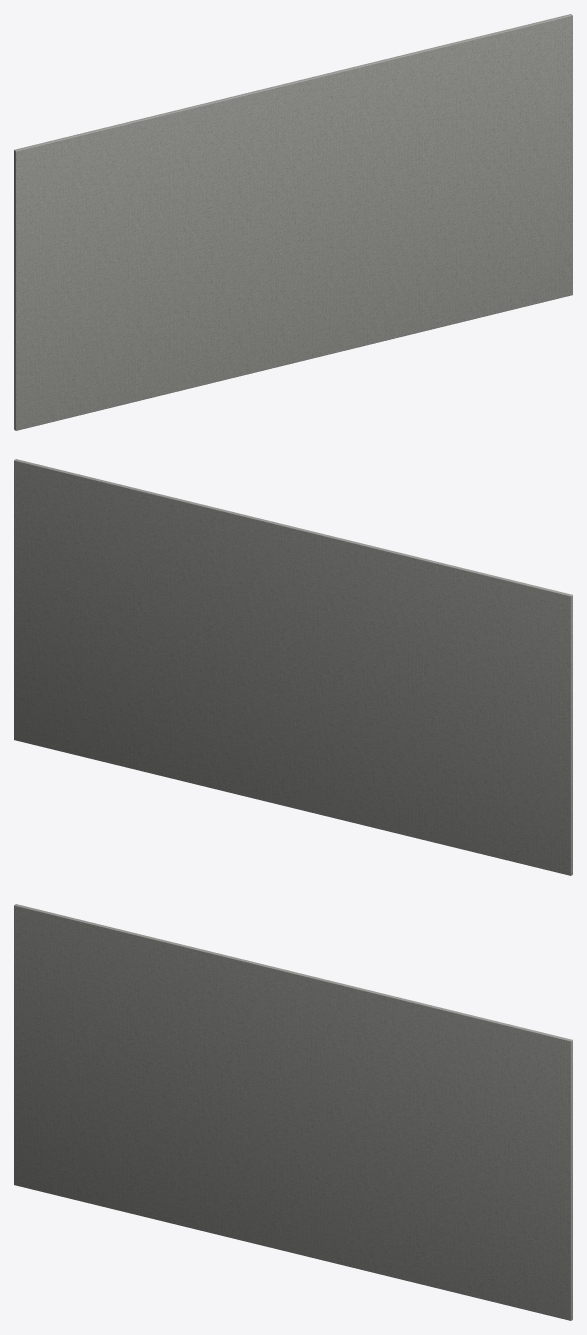
The model's file is textile-noticeboard-2500x1200-lth39.glb.
3 renders of one model, top to bottom at view 1: azimuth 30°, elevation 25°; view 2: azimuth 150°, elevation 25°; view 3: azimuth 330°, elevation 25°, orthographic.
Visible parts, largest first — view 1: 27829OMV; view 2: 27829OMV; view 3: 27829OMV.
Boxes of the visible parts, x1,y1,x2,y2 form: 27829OMV: (14, 14, 572, 430); 27829OMV: (14, 459, 572, 875); 27829OMV: (14, 904, 572, 1320).
Size of the model in its own units: 2.5 by 1.2 by 0.016.
Materials: 1 (1 with a texture image).
